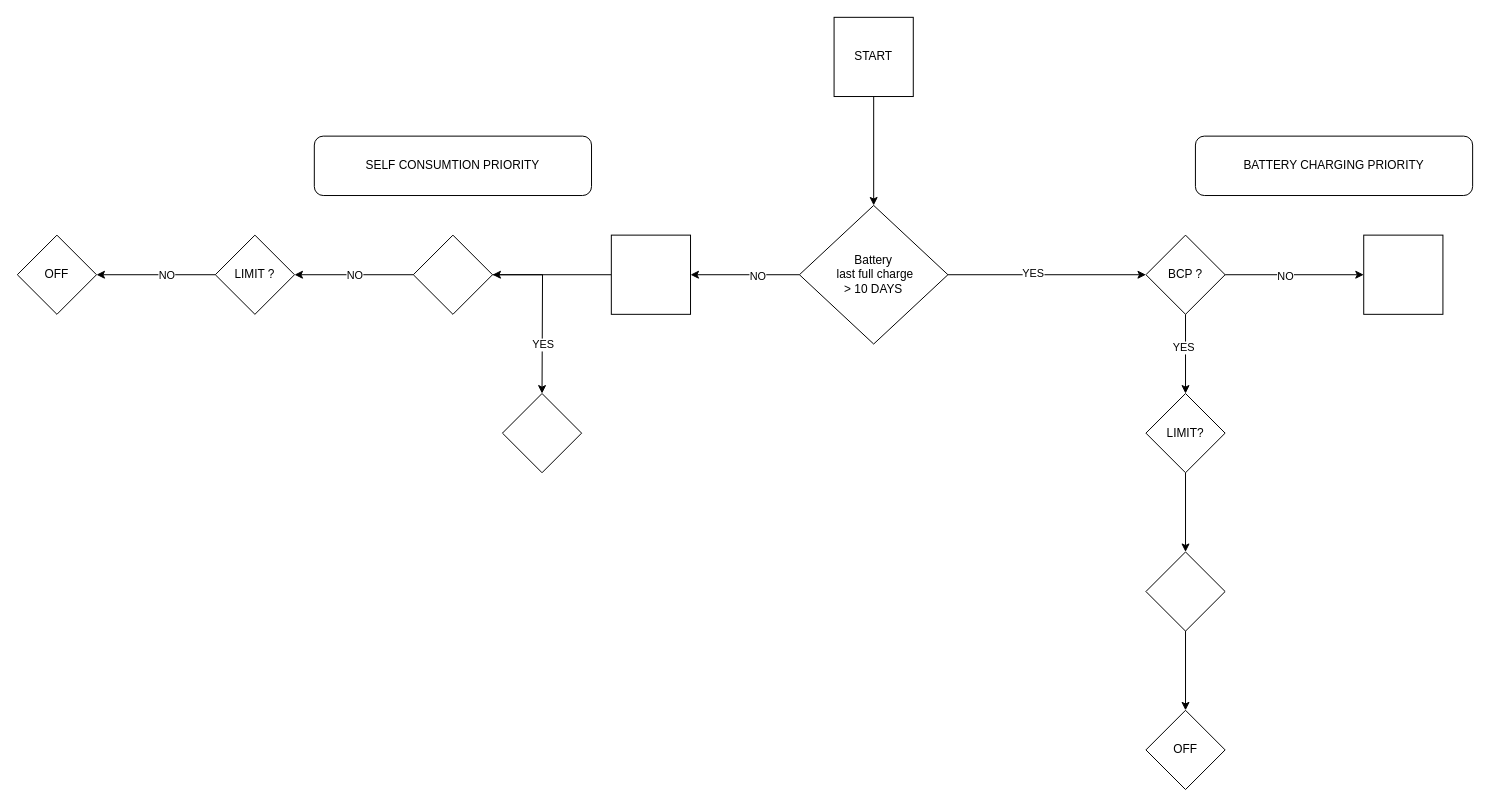
The diagram is 1490 pixels wide and 807 high, and some of its shapes have lost their labels. Each missing label, with the centre of its shape:
MPPT ?: pixel 452 274
MPPT?: pixel 1185 591
SET LAST MANUAL SOC | BCP = FALSE: pixel 650 274
SOC LIMIT = ACTUAL SOC | BCP = TRUE: pixel 1403 274
